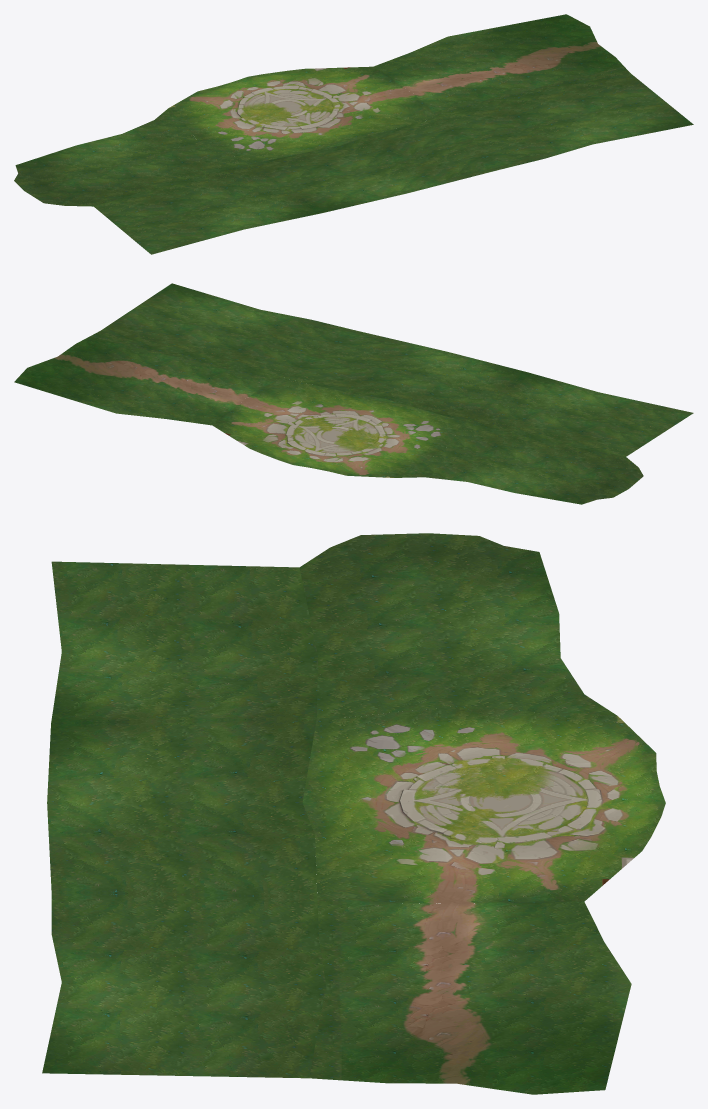
Rendered from ZhuCheng_DiXing_01.fbx.
3 views of the same model, one above another, from view 1: azimuth 30°, elevation 25°; view 2: azimuth 150°, elevation 25°; view 3: azimuth 270°, elevation 25° (orthographic). The views are drawn at different scales.
Visible parts, largest first — view 1: ZhuCheng_DiXing_01_02, ZhuCheng_DiXing_01_01; view 2: ZhuCheng_DiXing_01_02, ZhuCheng_DiXing_01_01; view 3: ZhuCheng_DiXing_01_02, ZhuCheng_DiXing_01_01.
Boxes of the visible parts, bbox=[...] form: ZhuCheng_DiXing_01_02: bbox=[14, 14, 693, 254]; ZhuCheng_DiXing_01_01: bbox=[168, 66, 436, 164]; ZhuCheng_DiXing_01_02: bbox=[14, 283, 693, 504]; ZhuCheng_DiXing_01_01: bbox=[212, 377, 466, 477]; ZhuCheng_DiXing_01_02: bbox=[42, 533, 631, 1094]; ZhuCheng_DiXing_01_01: bbox=[302, 705, 665, 903].
Size of the model in its own units: 98.29 by 0.1065 by 46.14.
